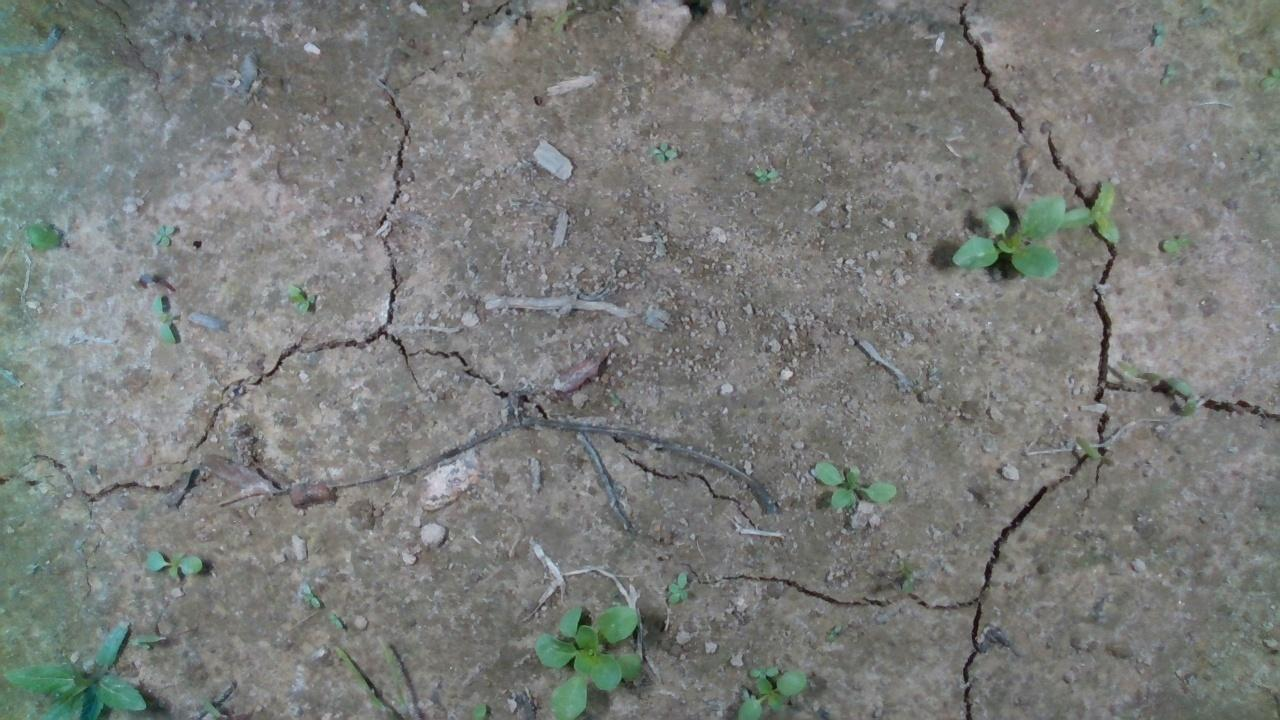weed: (807, 454, 900, 516), (142, 293, 198, 344), (1067, 436, 1135, 477), (137, 549, 217, 573), (276, 281, 318, 320), (746, 163, 801, 189), (662, 574, 708, 602), (636, 141, 680, 166), (146, 217, 180, 248), (1148, 222, 1191, 246), (827, 623, 868, 645), (295, 593, 330, 611)
